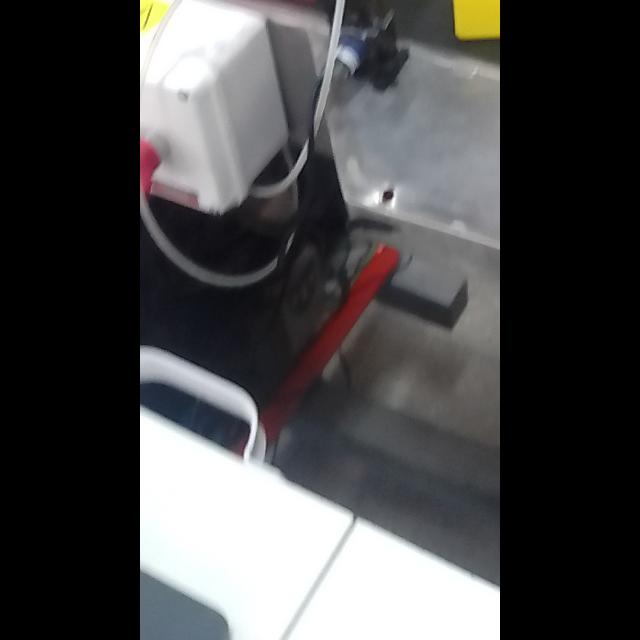redBox: (200, 1, 356, 20)
yellowBox: (430, 0, 500, 56)
